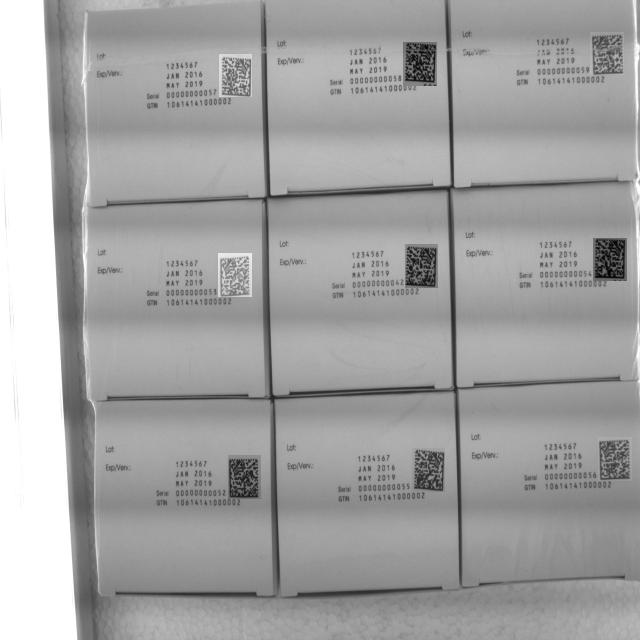DataMatrix: (403, 42, 437, 86), (218, 253, 252, 297), (598, 437, 632, 481), (590, 32, 624, 75), (593, 238, 627, 281), (405, 244, 438, 288), (412, 448, 445, 492), (228, 455, 261, 499), (219, 54, 252, 97)
